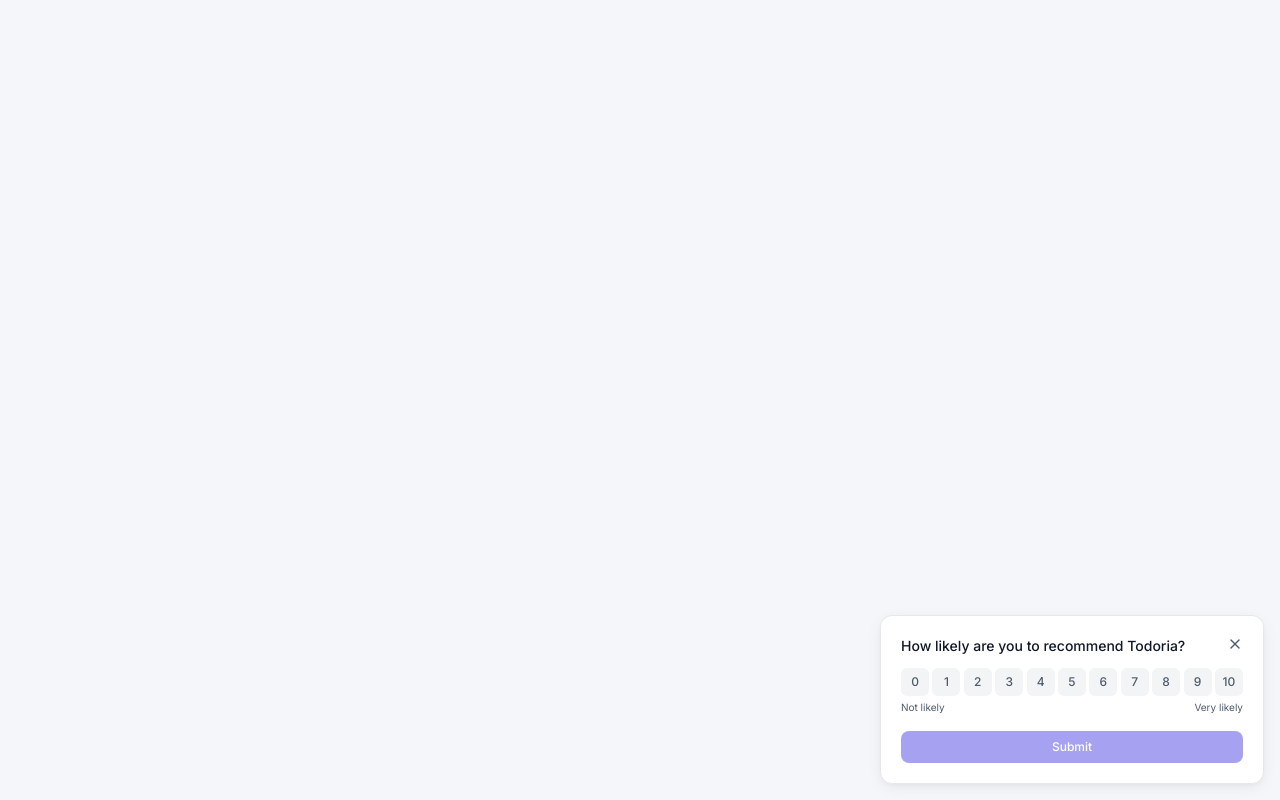
Test: NpsSurvey › should enable submit after selecting a score
Click the button "9" at (1198, 682), box x1=1184 y1=668 x2=1212 y2=696
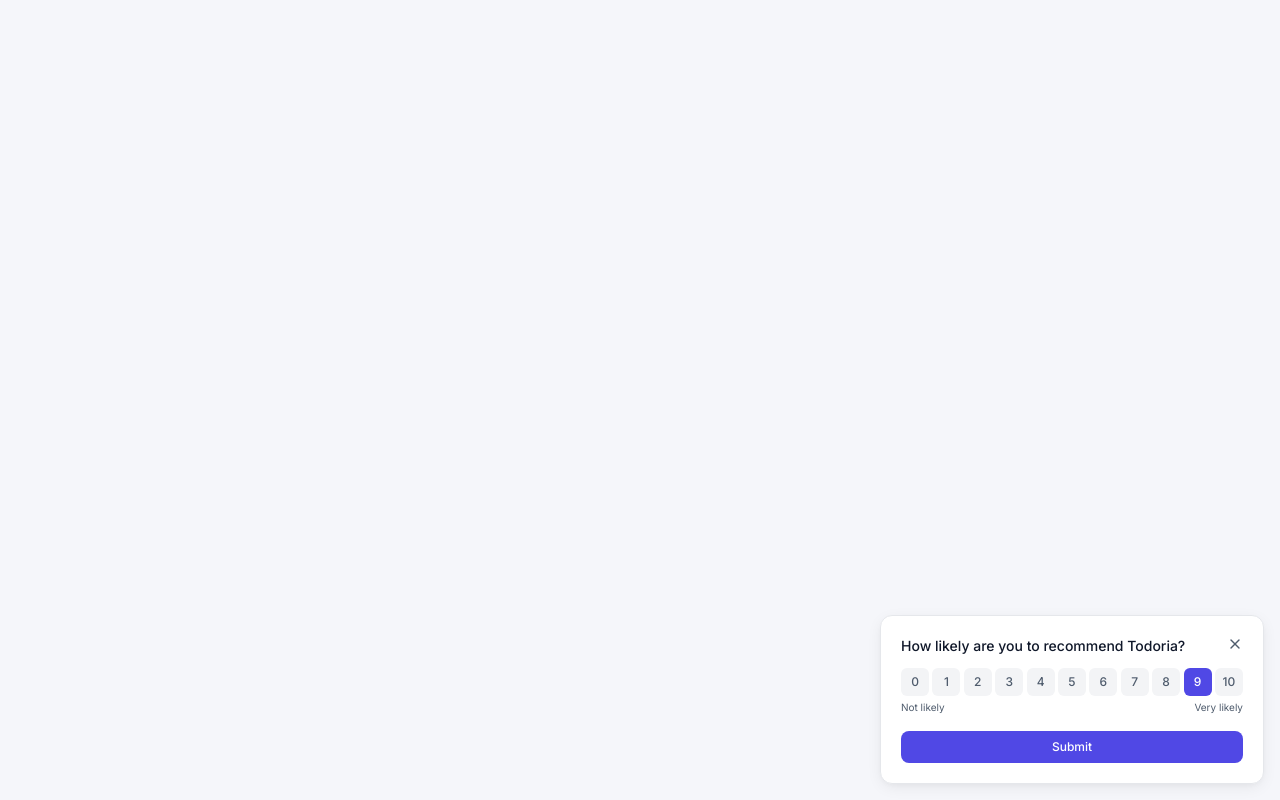
Expected: the button "Submit" is enabled, x1=901 y1=731 x2=1243 y2=763
